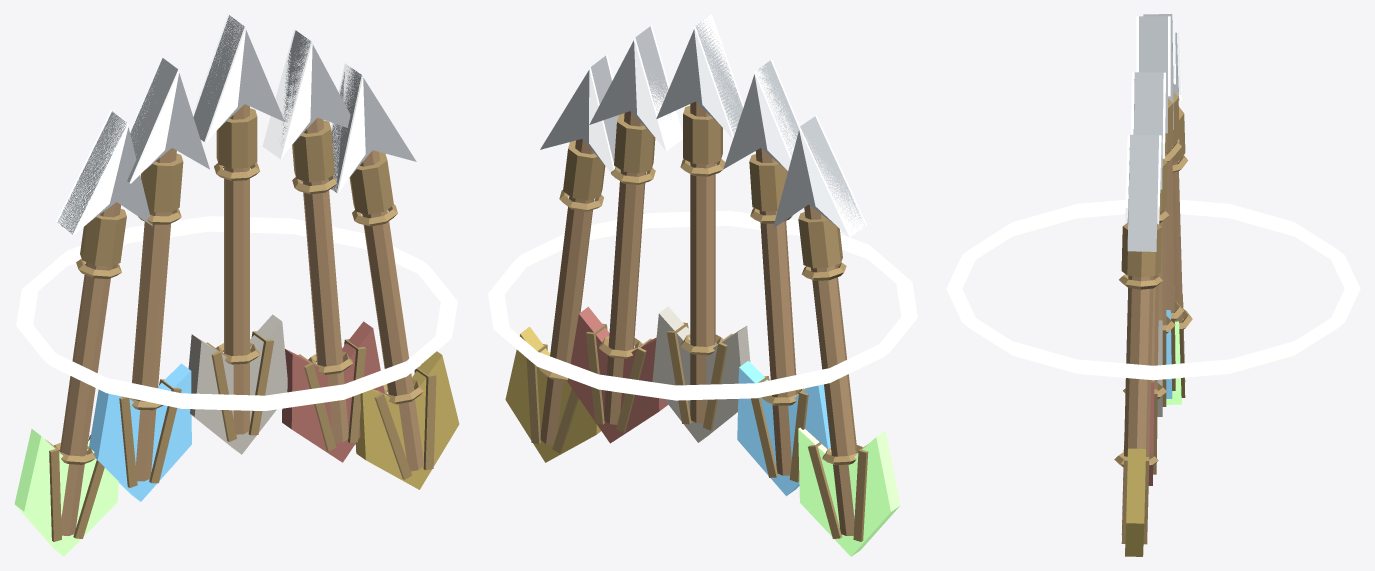
The model's file is multi_shot.glb.
3 views of the same model, side by side, from view 1: azimuth 30°, elevation 25°; view 2: azimuth 150°, elevation 25°; view 3: azimuth 270°, elevation 25° (orthographic). The views are drawn at different scales.
Visible parts, largest first — view 1: VolleyWindRing, Shaft.006, Shaft.004, Shaft.005, Shaft.003, Shaft.007, ForgedArrowhead.003, ForgedArrowhead.006, ForgedArrowhead.004, HeadEdgeLeft.006, ForgedArrowhead.007, Fletching_-1.006 (+29 smaller); view 2: VolleyWindRing, Shaft.006, Shaft.004, Shaft.003, Shaft.005, Shaft.007, ForgedArrowhead.006, ForgedArrowhead.003, ForgedArrowhead.004, Fletching_-1.006, ForgedArrowhead.005, ForgedArrowhead.007 (+29 smaller); view 3: VolleyWindRing, Shaft.007, ForgedArrowhead.007, Fletching_1.007, ForgedArrowhead.005, ForgedArrowhead.003, HeadCollar.007, Shaft.004, Shaft.006, FletchingRib_1.007, Shaft.003, Shaft.005 (+1 smaller).
Boxes of the visible parts, x1=… form: VolleyWindRing: x1=16, y1=216, x2=457, y2=410; Shaft.006: x1=60, y1=202, x2=120, y2=535; Shaft.004: x1=131, y1=148, x2=176, y2=481; Shaft.005: x1=302, y1=117, x2=348, y2=443; Shaft.003: x1=224, y1=104, x2=249, y2=434; Shaft.007: x1=360, y1=150, x2=423, y2=471; ForgedArrowhead.003: x1=193, y1=15, x2=284, y2=141; ForgedArrowhead.006: x1=57, y1=111, x2=152, y2=234; ForgedArrowhead.004: x1=127, y1=58, x2=209, y2=182; HeadEdgeLeft.006: x1=56, y1=110, x2=128, y2=235; ForgedArrowhead.007: x1=328, y1=67, x2=416, y2=192; Fletching_-1.006: x1=14, y1=429, x2=68, y2=556; VolleyWindRing: x1=488, y1=210, x2=917, y2=400; Shaft.006: x1=804, y1=204, x2=857, y2=535; Shaft.004: x1=755, y1=148, x2=797, y2=475; Shaft.003: x1=690, y1=101, x2=715, y2=423; Shaft.005: x1=604, y1=111, x2=645, y2=424; Shaft.007: x1=540, y1=139, x2=594, y2=445; ForgedArrowhead.006: x1=773, y1=116, x2=864, y2=230; ForgedArrowhead.003: x1=656, y1=18, x2=742, y2=134; ForgedArrowhead.004: x1=723, y1=60, x2=798, y2=169; Fletching_-1.006: x1=848, y1=430, x2=900, y2=556; ForgedArrowhead.005: x1=589, y1=26, x2=671, y2=135; ForgedArrowhead.007: x1=540, y1=55, x2=620, y2=172; VolleyWindRing: x1=946, y1=199, x2=1360, y2=380; Shaft.007: x1=1122, y1=275, x2=1153, y2=527; ForgedArrowhead.007: x1=1127, y1=134, x2=1158, y2=251; Fletching_1.007: x1=1125, y1=448, x2=1145, y2=556; ForgedArrowhead.005: x1=1133, y1=72, x2=1163, y2=189; ForgedArrowhead.003: x1=1139, y1=16, x2=1167, y2=133; HeadCollar.007: x1=1121, y1=222, x2=1161, y2=277; Shaft.004: x1=1166, y1=147, x2=1175, y2=352; Shaft.006: x1=1172, y1=161, x2=1184, y2=381; FletchingRib_1.007: x1=1121, y1=456, x2=1149, y2=544; Shaft.003: x1=1158, y1=152, x2=1166, y2=325; Shaft.005: x1=1151, y1=212, x2=1159, y2=389.
Bounding box in the file's own units: 1.23 × 1.42 × 1.14.
